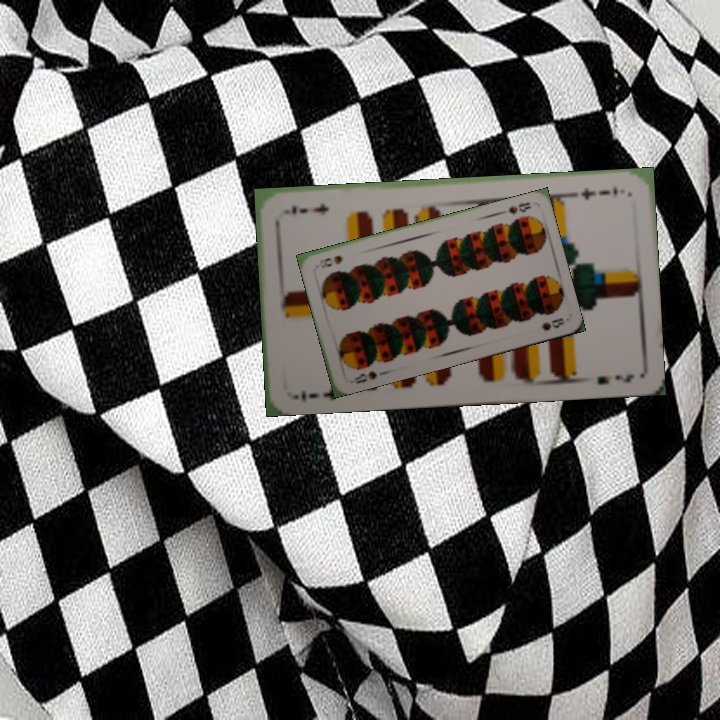E7: (569, 181, 620, 202), (298, 384, 341, 405)
S8: (495, 198, 534, 217), (349, 367, 380, 386)
